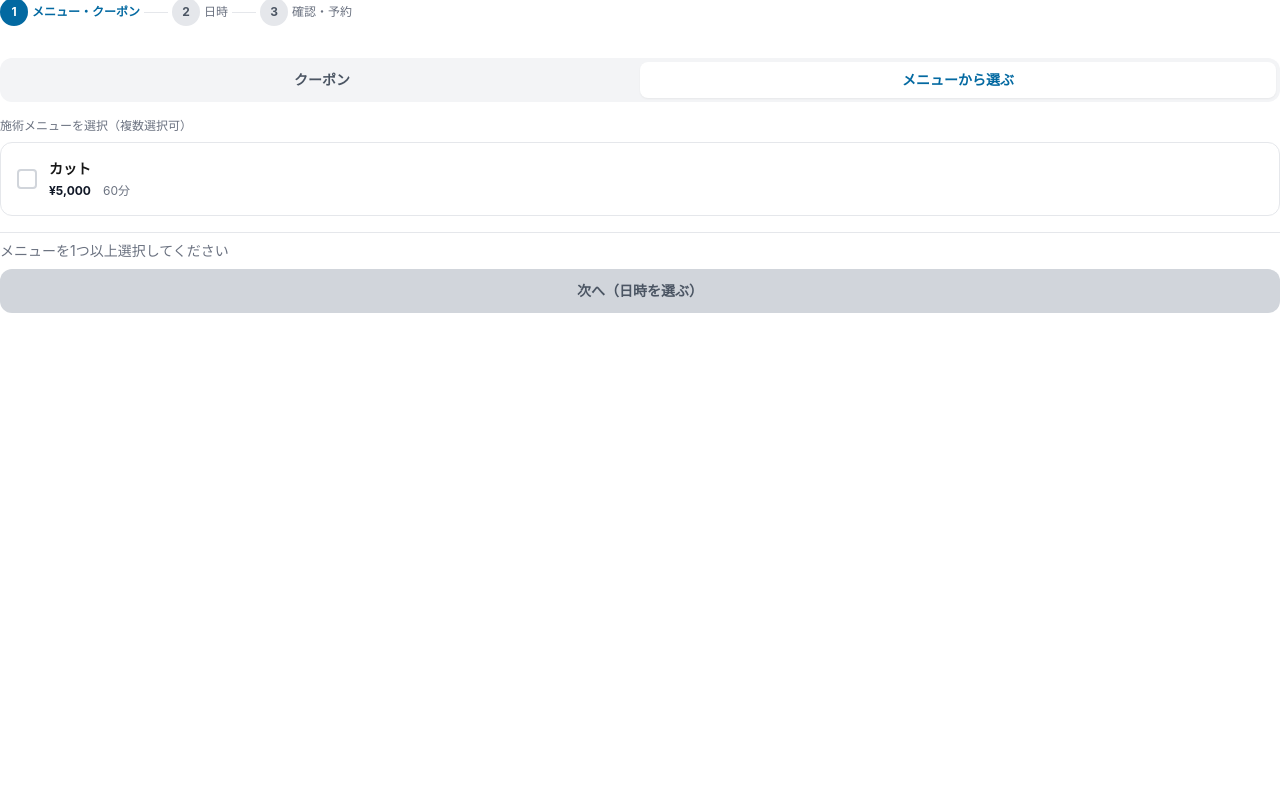
Test: an unavailable points balance stays distinct from zero and recovers through retry
The width and height of the screenshot is (1280, 798).
Step 1. Click the text "カット" → (70, 169), box [49, 159, 91, 179]
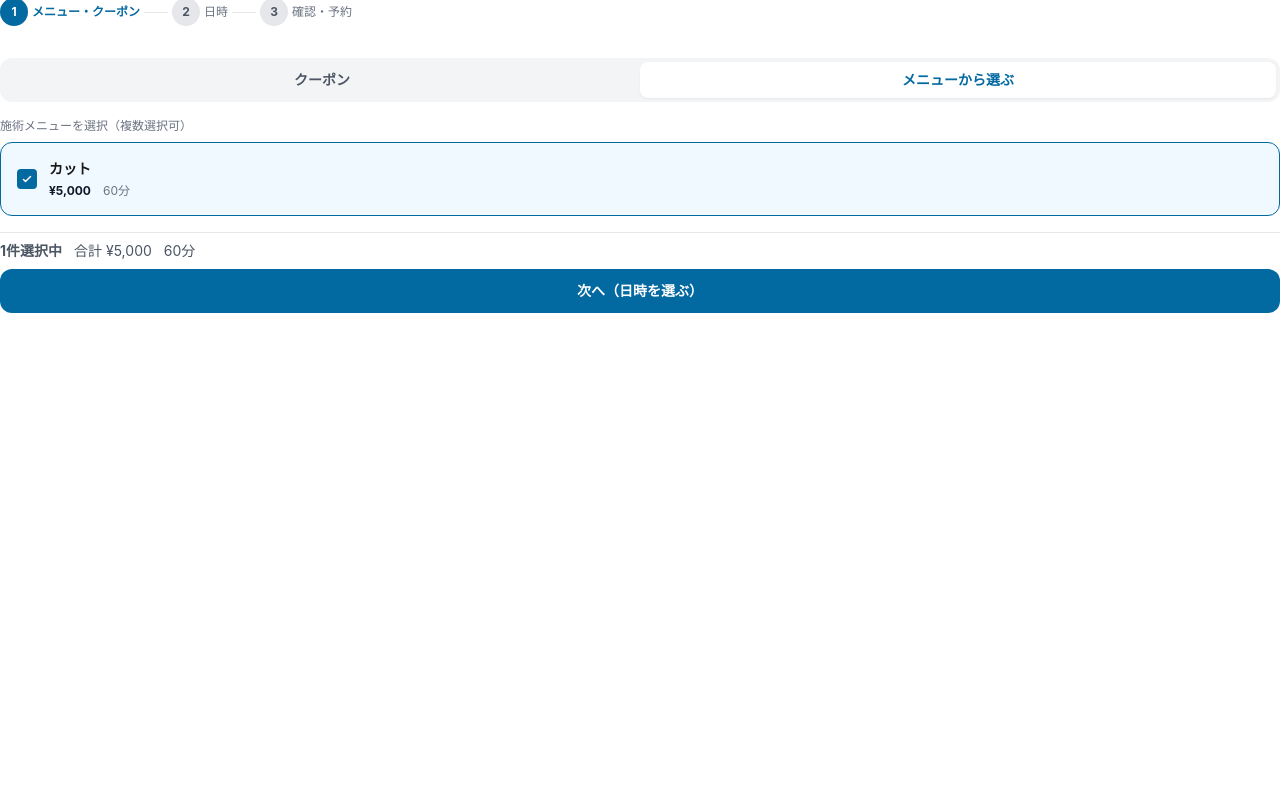
Step 2. Click the button "次へ（日時を選ぶ）" → (640, 291), box [0, 269, 1279, 313]
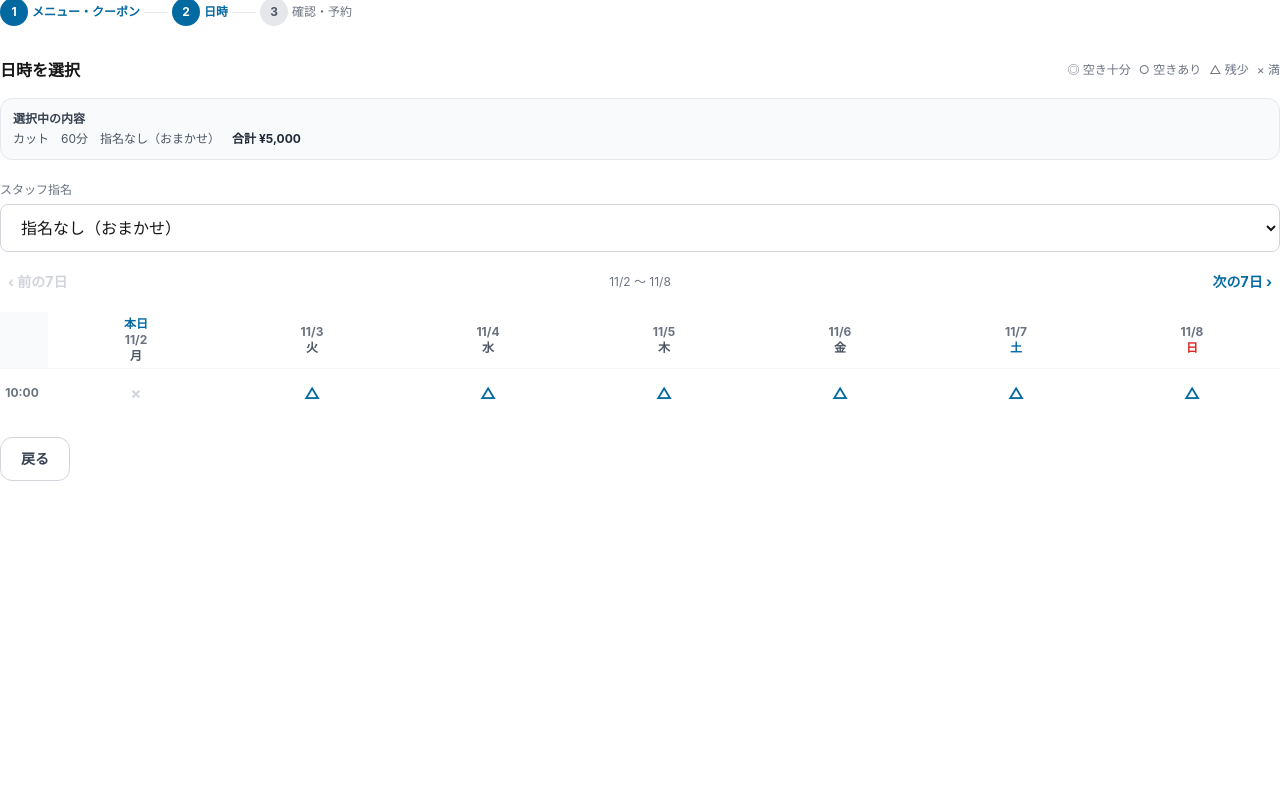
Step 3. Click the 1st button "△" → (312, 393), box [226, 371, 398, 415]
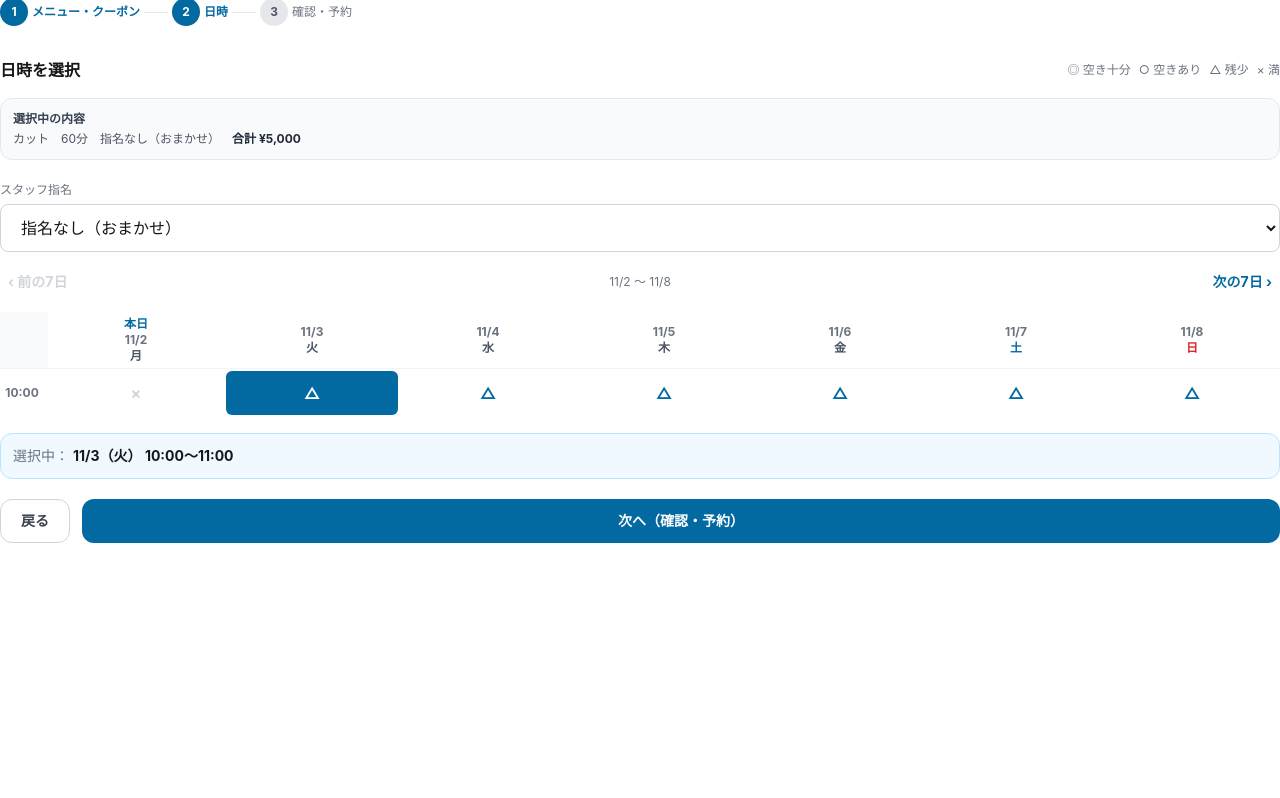
Step 4. Click the button "次へ（確認・予約）" → (681, 521), box [82, 499, 1279, 543]
(page scrolled)
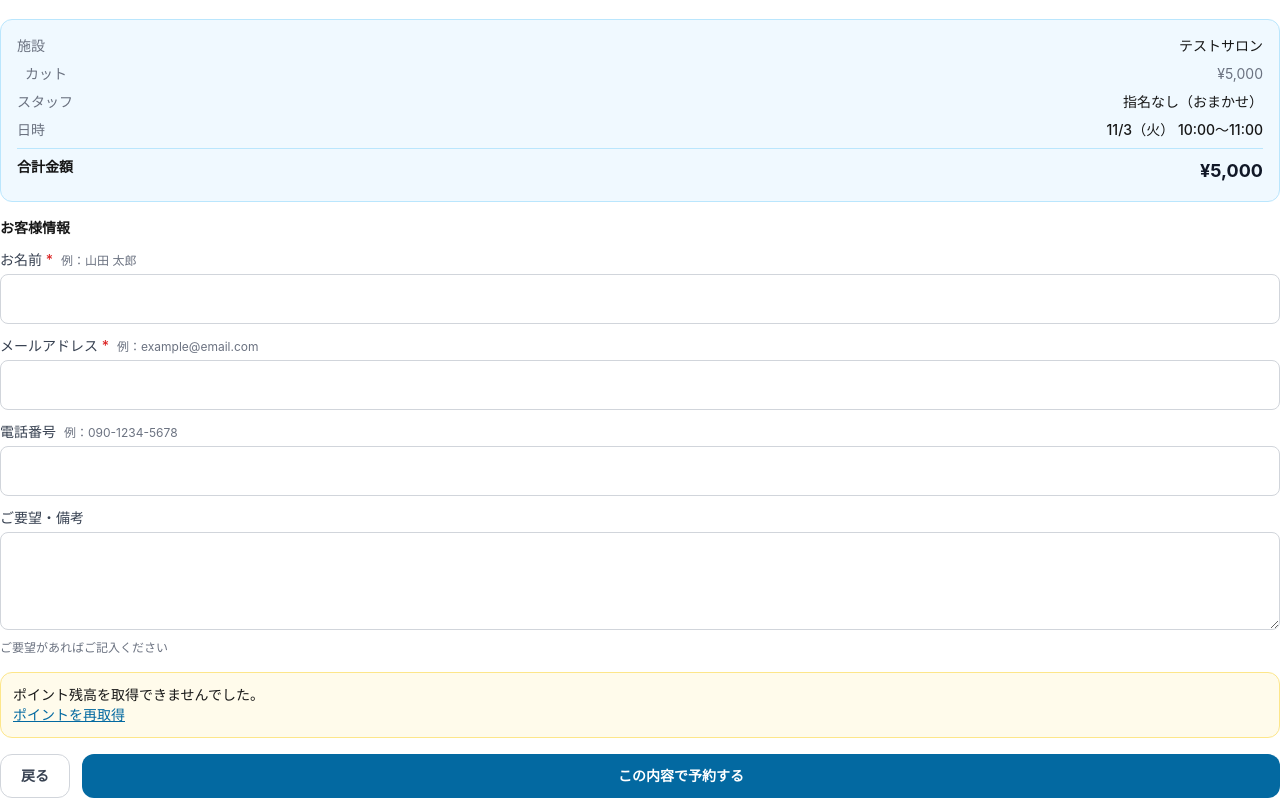
expect the text "ポイントを使う" is not shown: met
expect the text "ポイント残高を取得できませんでした。" is shown: met, box [13, 686, 264, 703]
Step 5. Click the button "ポイントを再取得" → (69, 715), box [13, 705, 125, 725]
(page scrolled)
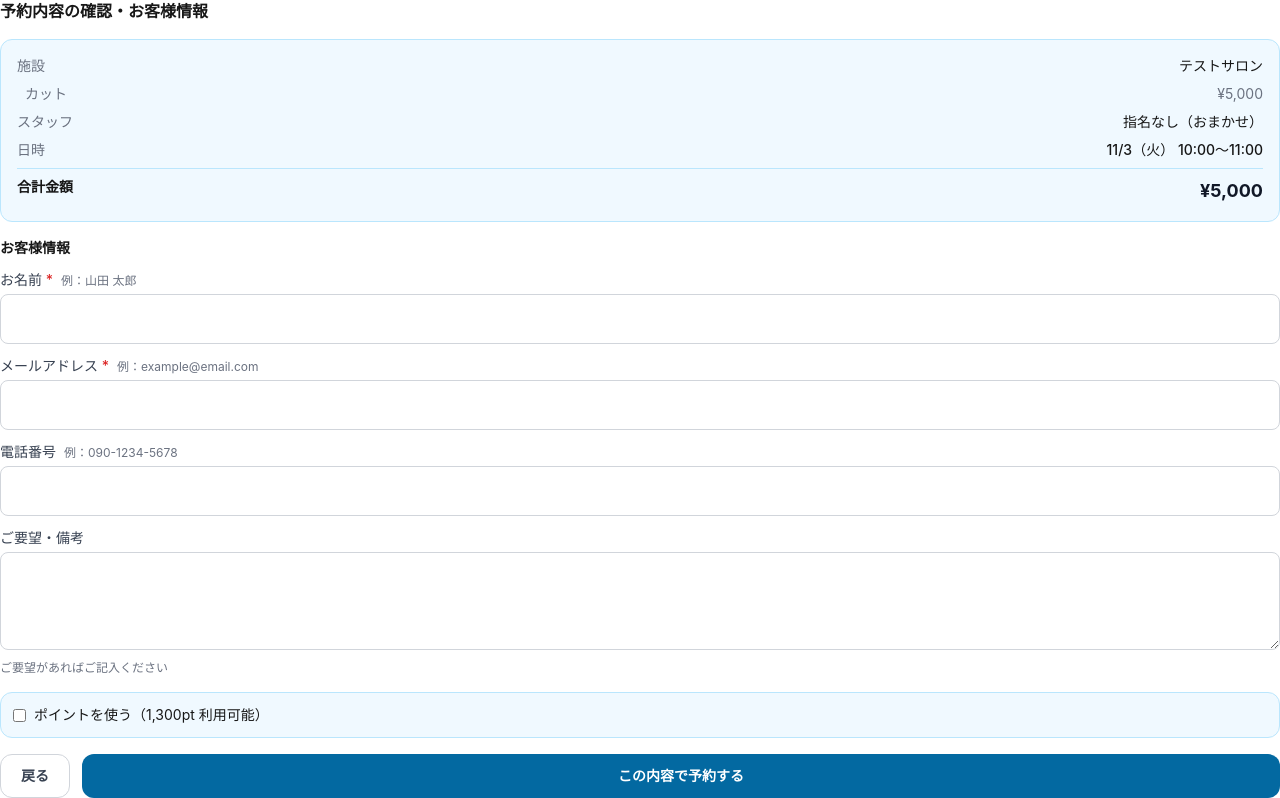
expect the text "ポイントを使う（1,300pt 利用可能）" is shown: met, box [34, 705, 269, 725]
expect the text "ポイント残高を取得できませんでした。" is gone: met
